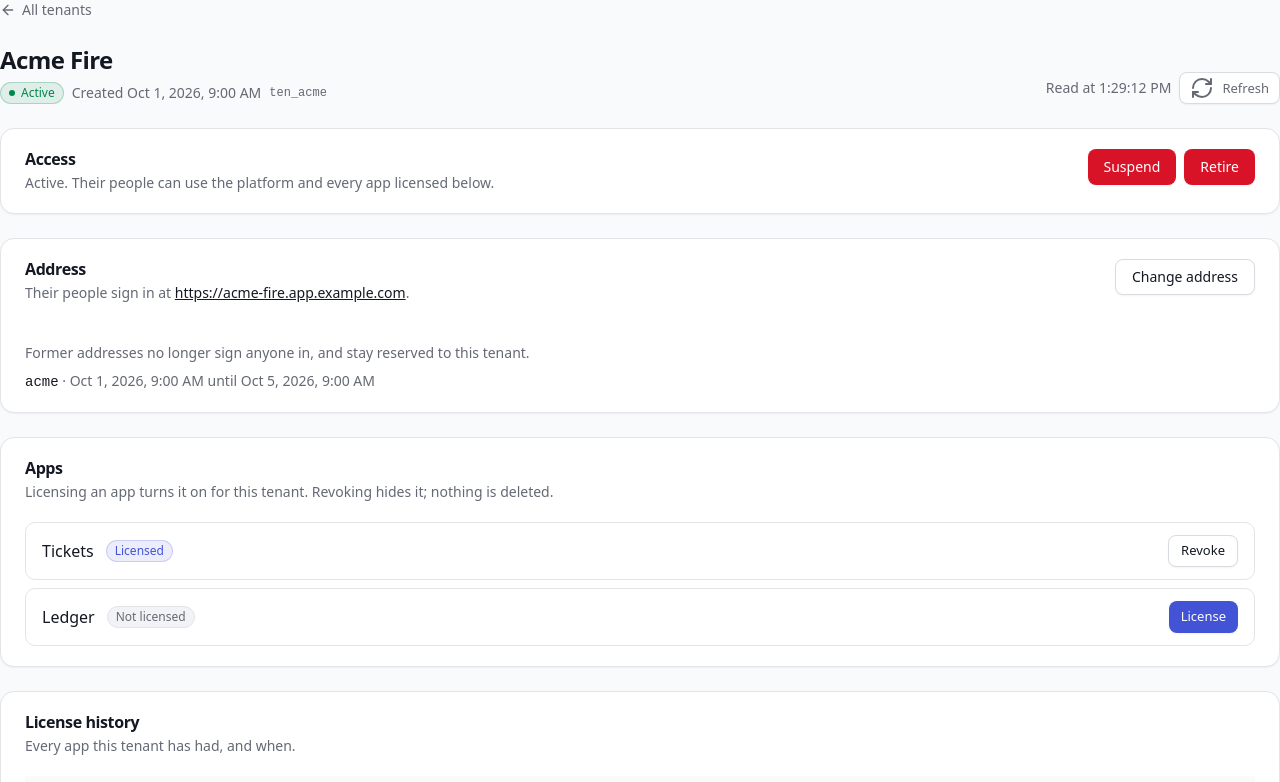
changing status › reports a change someone else already made, and reads the tenant again
Click the button "Suspend": (1132,167) [1088,149,1176,185]
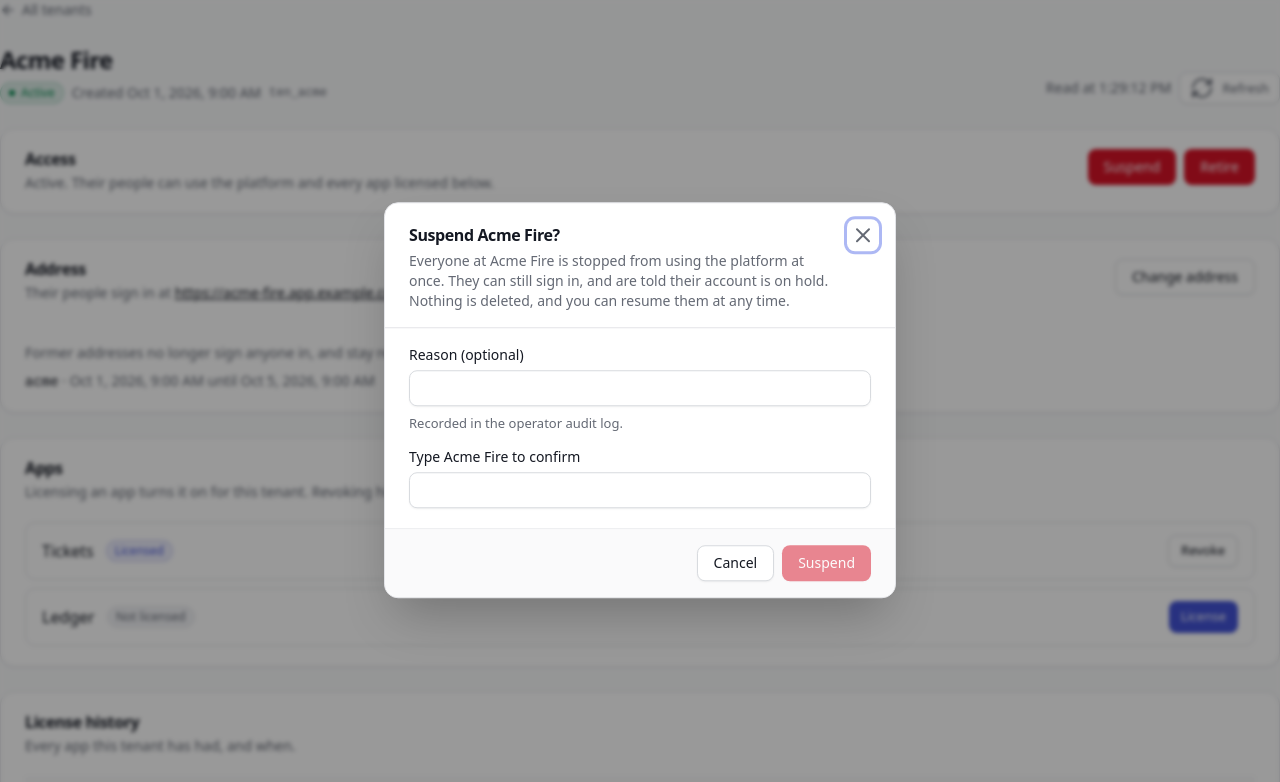
In the field labelled "Type Acme Fire to confirm": (640,490) [409,472,871,508], type "Acme Fire"
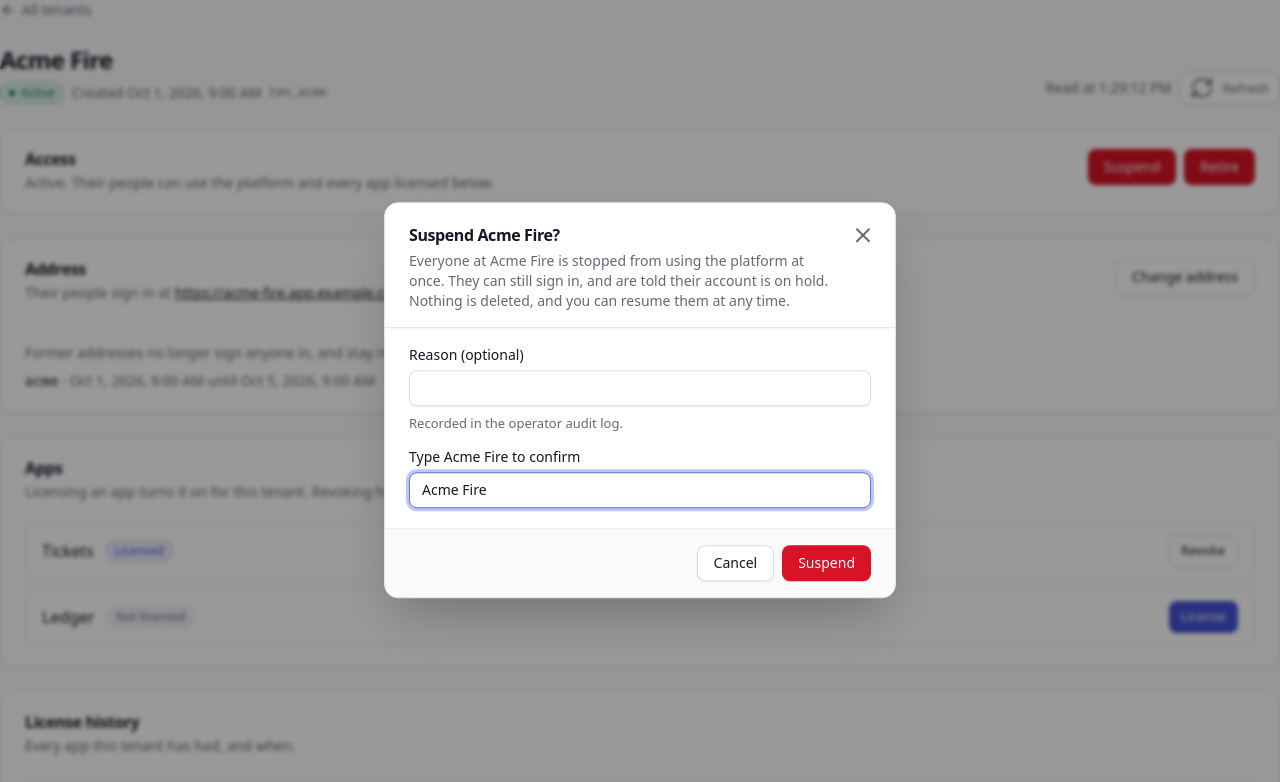
Click the button "Suspend": (827,563) [782,545,871,581]
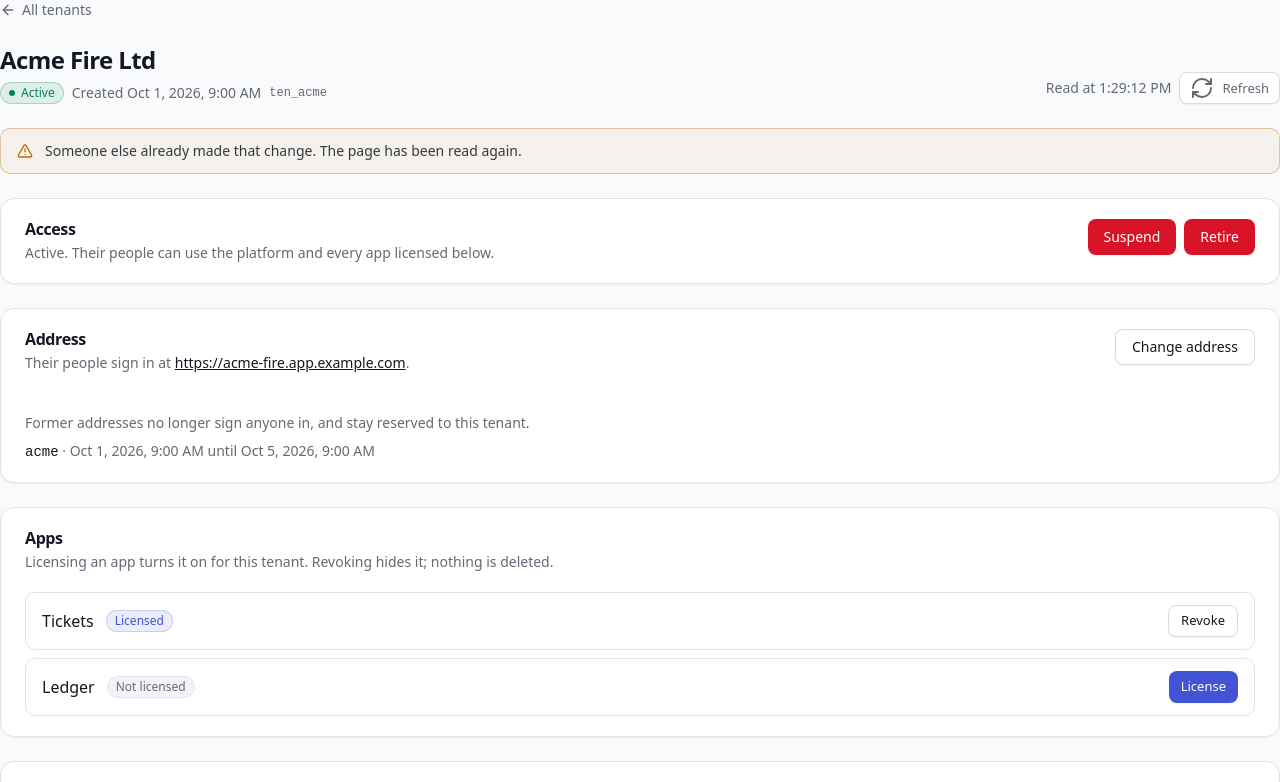
Result: the text "Someone else already made that change" is shown at [45,141,522,160]
Result: the heading "Acme Fire Ltd" is shown at [0,43,156,76]
